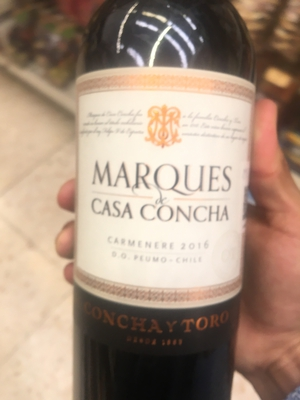marques de casa concha carmenere: (71, 3, 264, 374)
